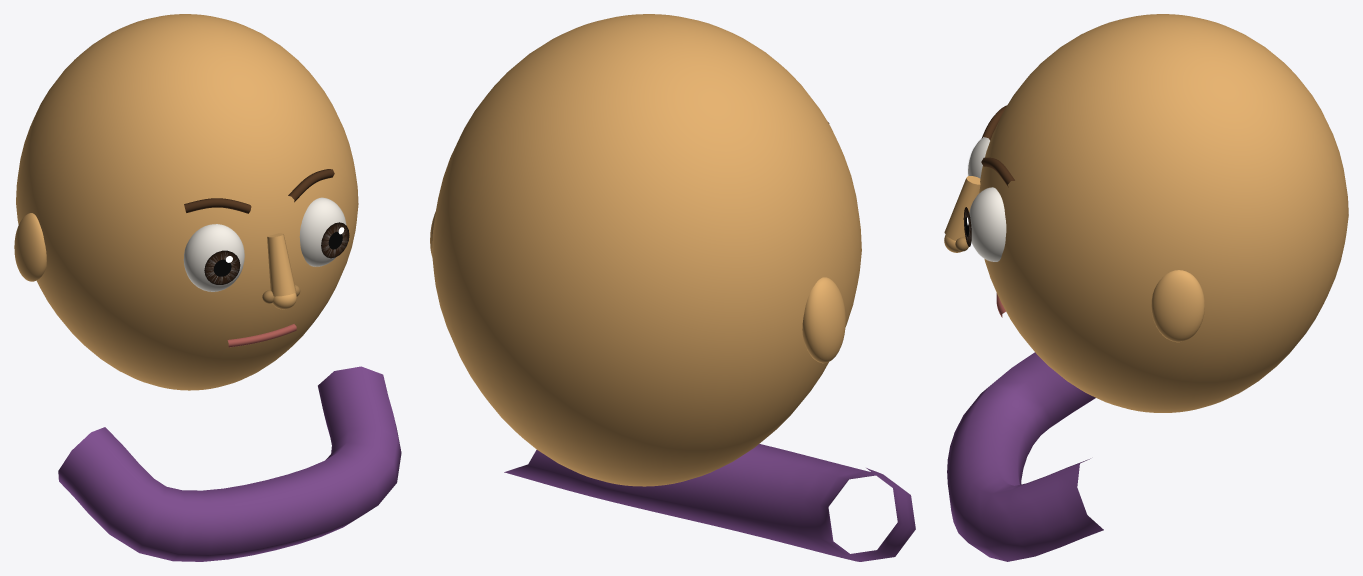
File: 16-foulard.glb
3 views of the same model, side by side, from view 1: azimuth 30°, elevation 25°; view 2: azimuth 150°, elevation 25°; view 3: azimuth 270°, elevation 25° (orthographic). The views are drawn at different scales.
Size of what is drawn, in the model's own units: 0.3162 by 0.4194 by 0.3166.
Materials: 10 (1 with a texture image).
